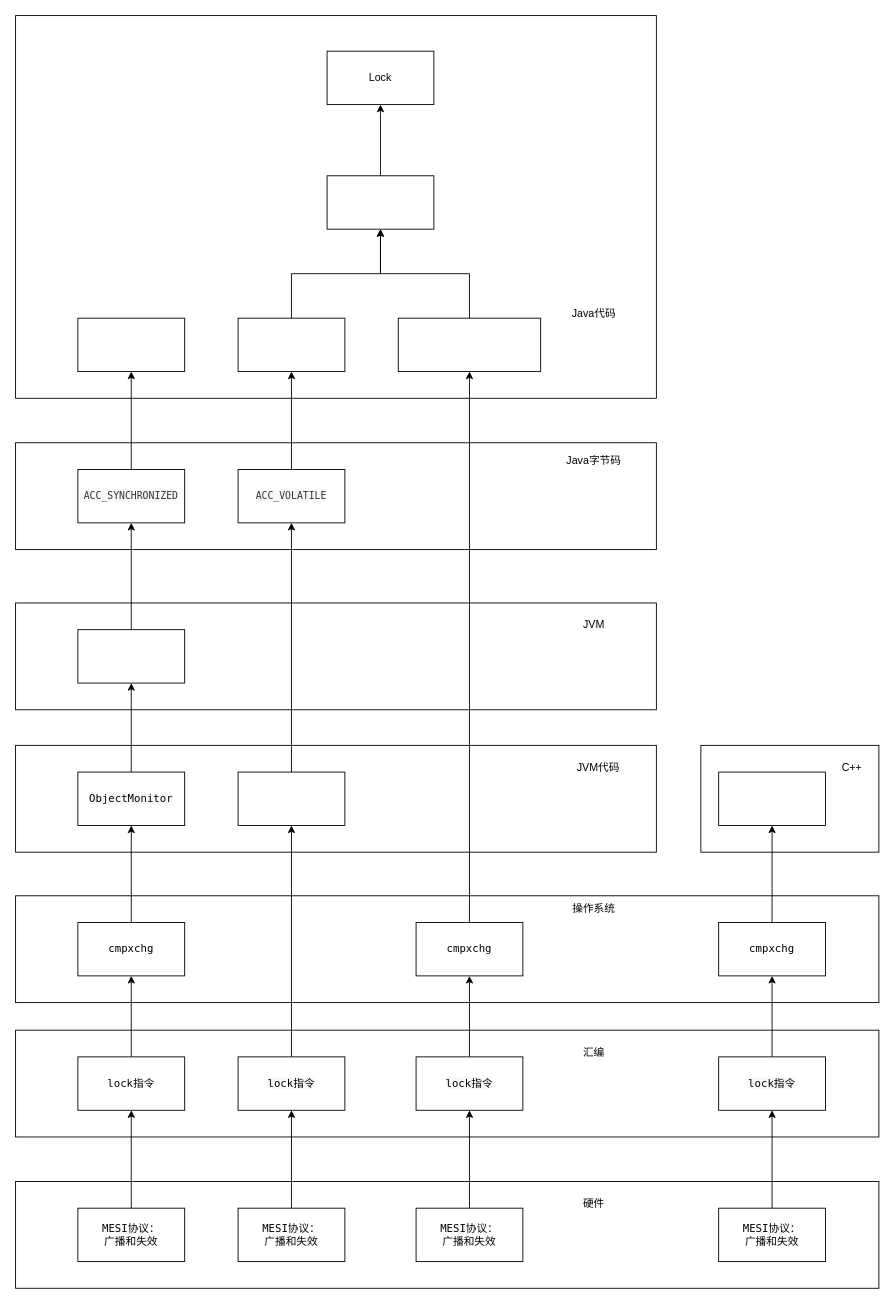
This 894x1304 diagram has some shape labels left out. The centre of each missing label's shape, as x and y in pixels:
AQS: (380,202)
monitorenter monitorexit: (131,656)
Mutex: (771,798)
stroeload(): (291,798)
sychronized: (131,344)
Unsafe. compareAndSwap: (469,344)
volatile: (291,344)
